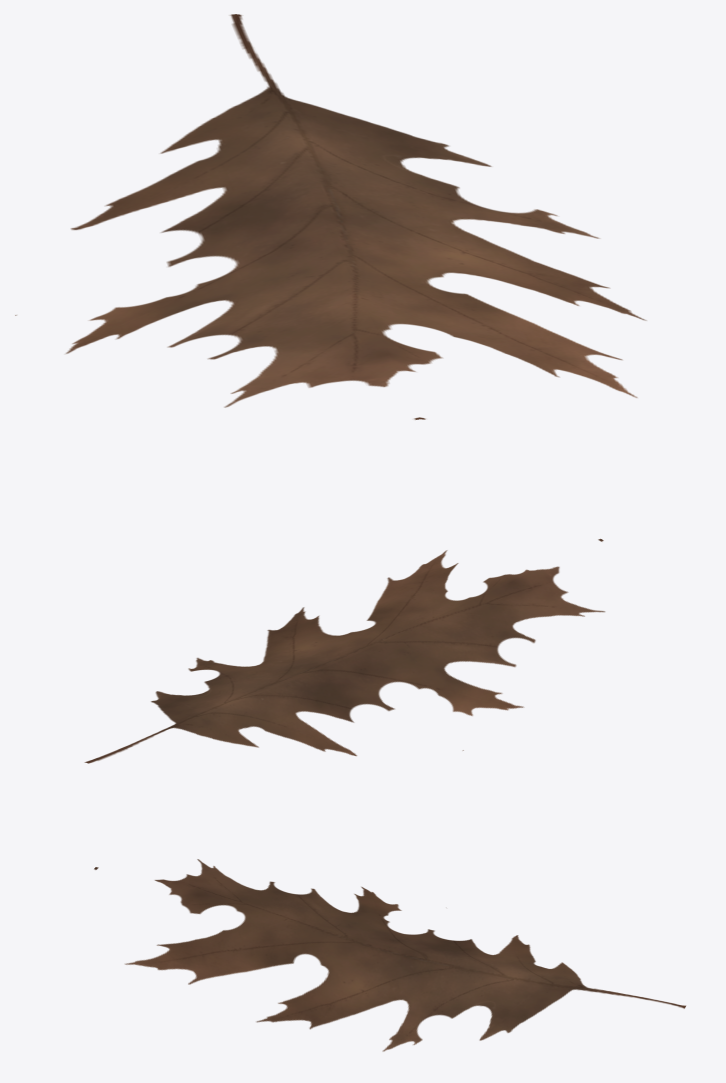
File: realistic_hd_red_oak_leaf_litter_3636.glb
The picture shows the model from 3 angles, top to bottom: view 1: azimuth 30°, elevation 25°; view 2: azimuth 150°, elevation 25°; view 3: azimuth 270°, elevation 25°; orthographic projection. The views are drawn at different scales.
Visible parts, largest first — view 1: Quercus_rubra_leaf_litter_HD_V2; view 2: Quercus_rubra_leaf_litter_HD_V2; view 3: Quercus_rubra_leaf_litter_HD_V2.
Part boxes in pixels (<box>): Quercus_rubra_leaf_litter_HD_V2: <box>15,14,646,419</box>; Quercus_rubra_leaf_litter_HD_V2: <box>84,539,605,763</box>; Quercus_rubra_leaf_litter_HD_V2: <box>94,859,685,1051</box>.
Size of the model in its own units: 0.1814 by 0.0284 by 0.2677.
1 material, 1 textured.
